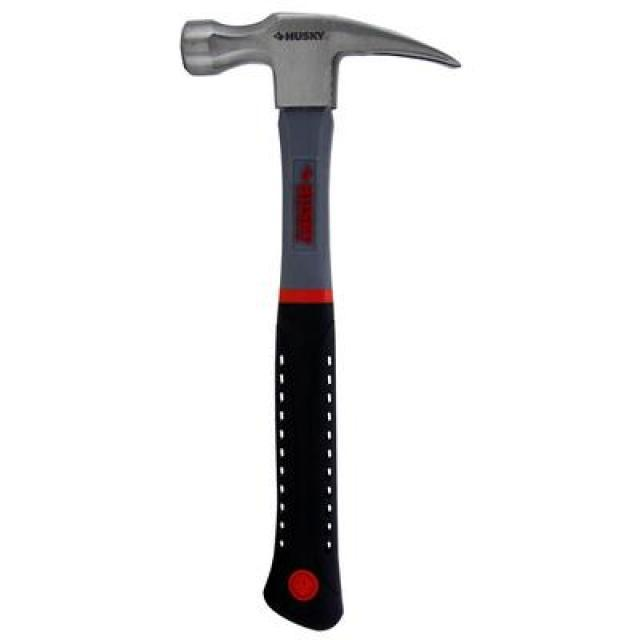hammer: (162, 1, 472, 638)
